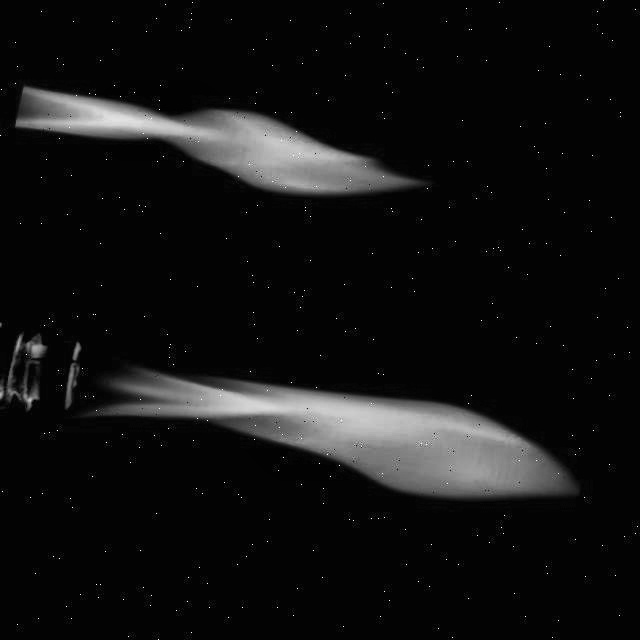Fire: (0, 321, 611, 539), (3, 63, 471, 239)
